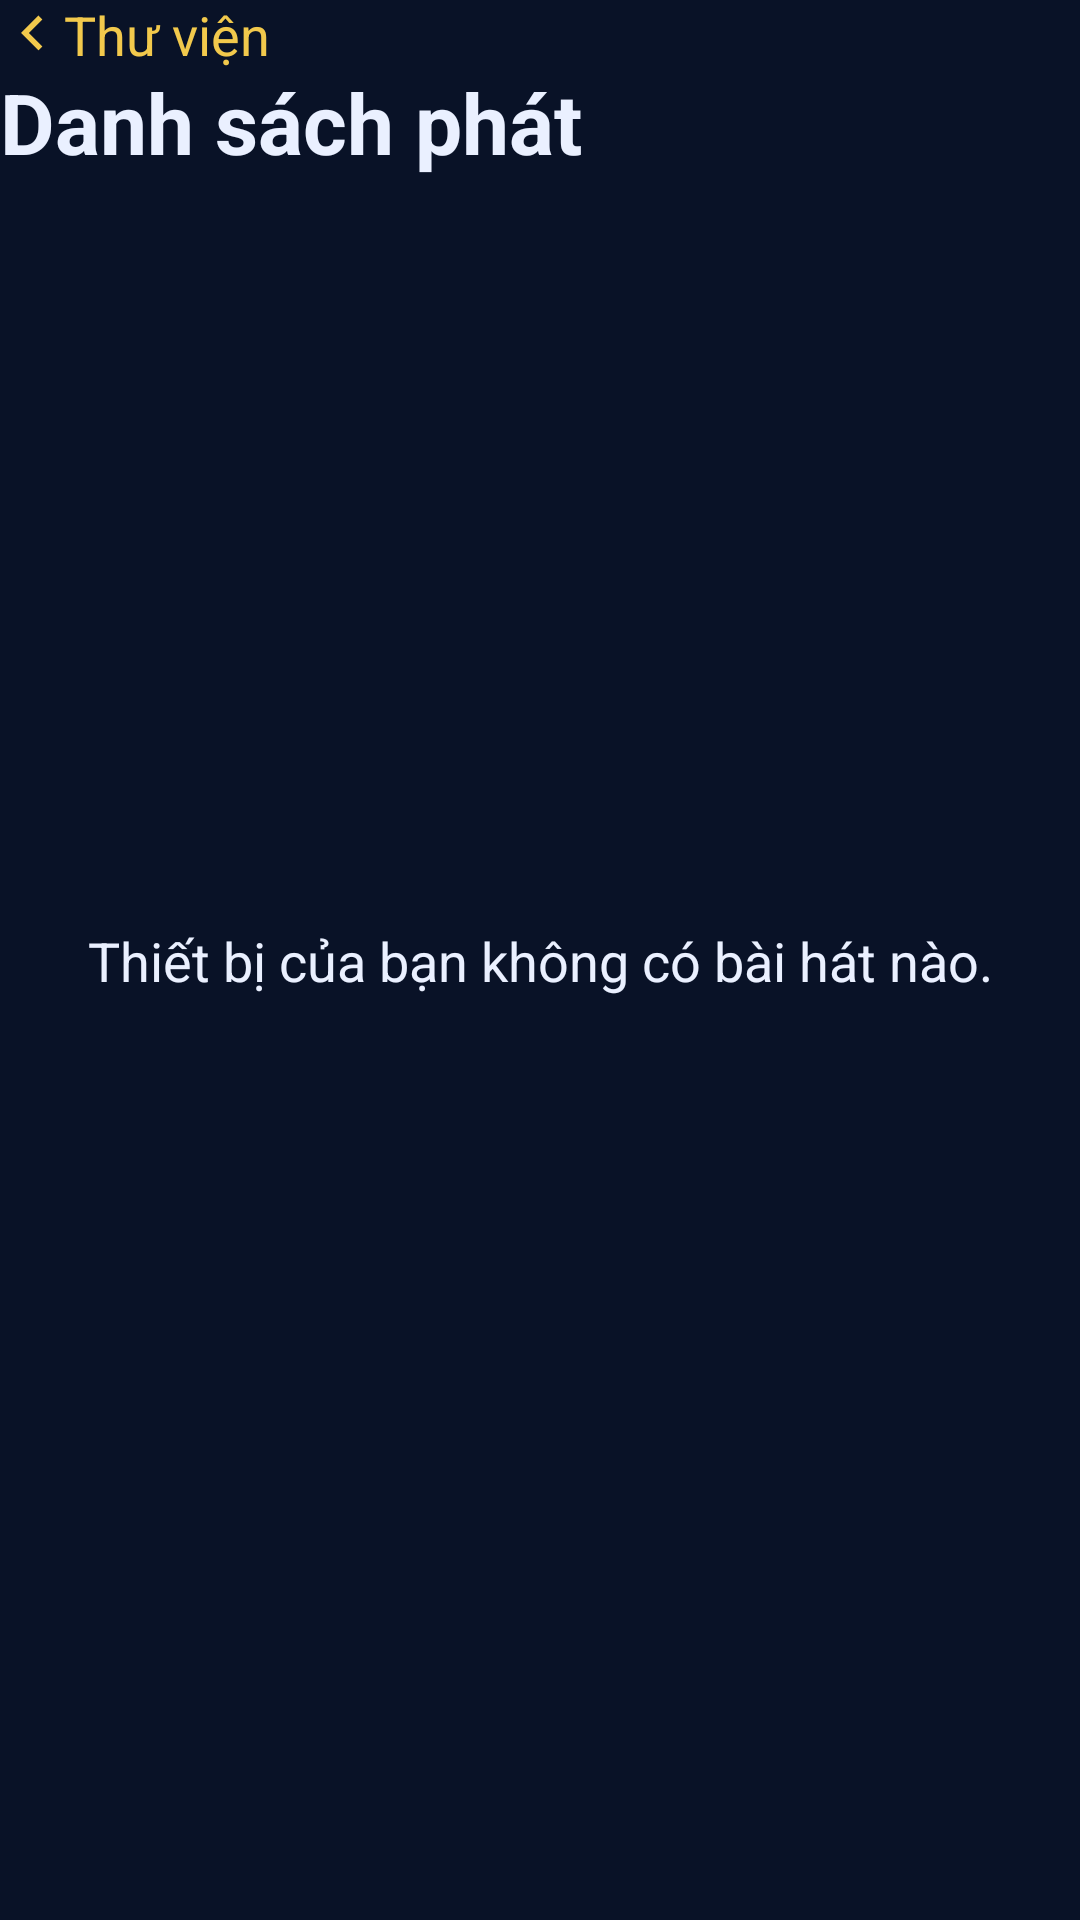

Named icons in this screenshot (1080×1920) and their bounding boxes, [left=x1, top=y1, right=x2, bottom=y2]:
left: [left=21, top=15, right=43, bottom=51]
